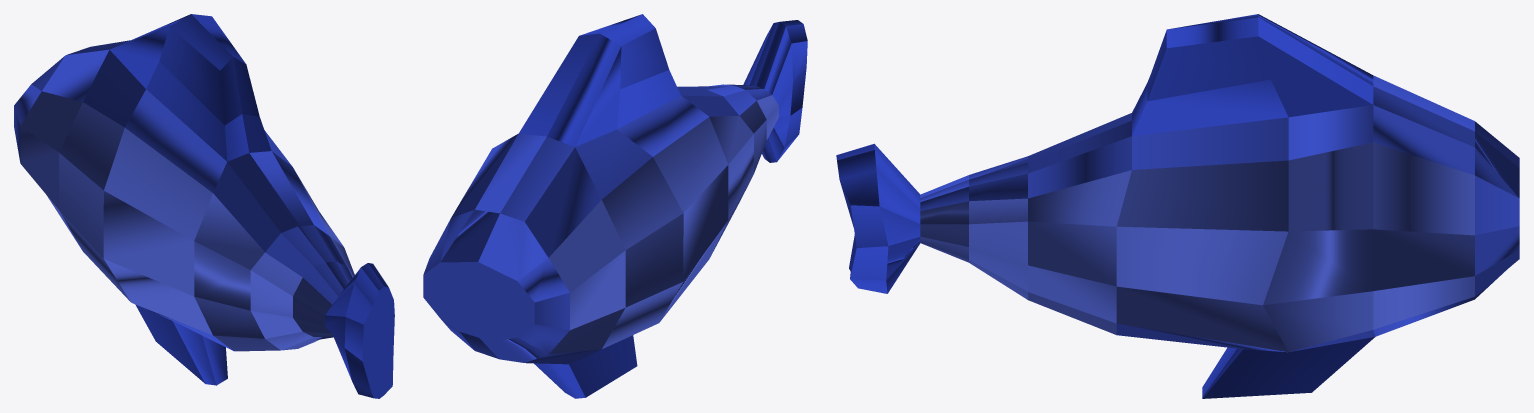
File: fish08.fbx
The picture shows the model from 3 angles, left to right: view 1: azimuth 30°, elevation 25°; view 2: azimuth 150°, elevation 25°; view 3: azimuth 270°, elevation 25°; orthographic projection. The views are drawn at different scales.
Parts seen in each view (by area): view 1: Cube; view 2: Cube; view 3: Cube.
Part boxes in pixels (bbox=[...]): Cube: bbox=[14, 14, 394, 398]; Cube: bbox=[423, 14, 807, 398]; Cube: bbox=[836, 14, 1519, 398].
Bounding box in the file's own units: 50.42 × 99.79 × 162.
